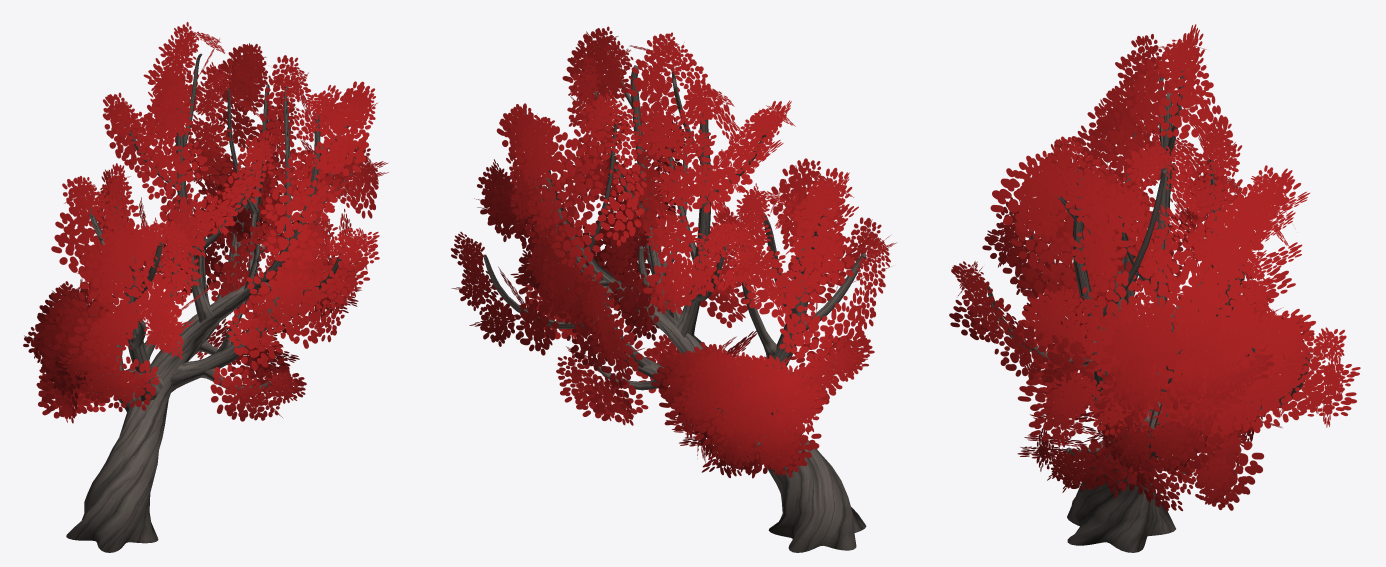
File: twisted.glb
3 renders of one model, left to right at view 1: azimuth 30°, elevation 25°; view 2: azimuth 150°, elevation 25°; view 3: azimuth 270°, elevation 25°, orthographic. The views are drawn at different scales.
Parts seen in each view (by area): view 1: TwistedTree_1; view 2: TwistedTree_1; view 3: TwistedTree_1.
Boxes of the visible parts, bbox=[...] form: TwistedTree_1: bbox=[23, 22, 388, 552]; TwistedTree_1: bbox=[451, 26, 896, 552]; TwistedTree_1: bbox=[949, 24, 1360, 552].
Bounding box in the file's own units: 13.52 × 16.73 × 11.55.
2 materials, 2 textured.
